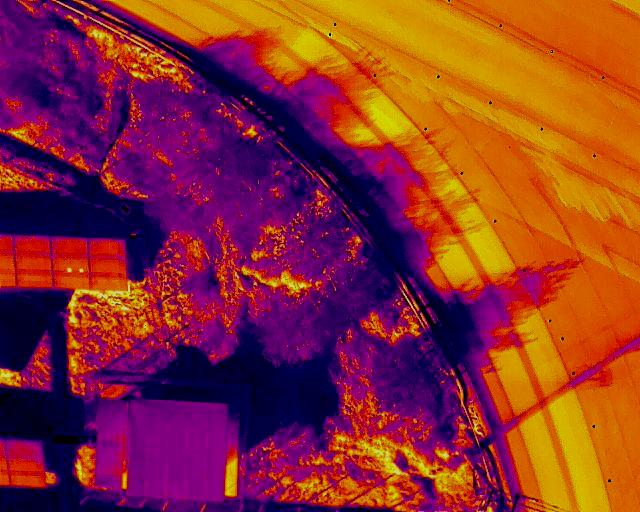Cell-Multi: (51, 257, 89, 272)
No-Anomaly: (15, 252, 51, 271), (51, 238, 89, 256), (6, 441, 43, 458), (89, 240, 125, 257), (90, 257, 126, 274), (14, 237, 51, 252), (90, 275, 127, 290), (16, 272, 52, 287), (8, 472, 45, 486), (53, 273, 90, 287), (7, 458, 43, 471)
